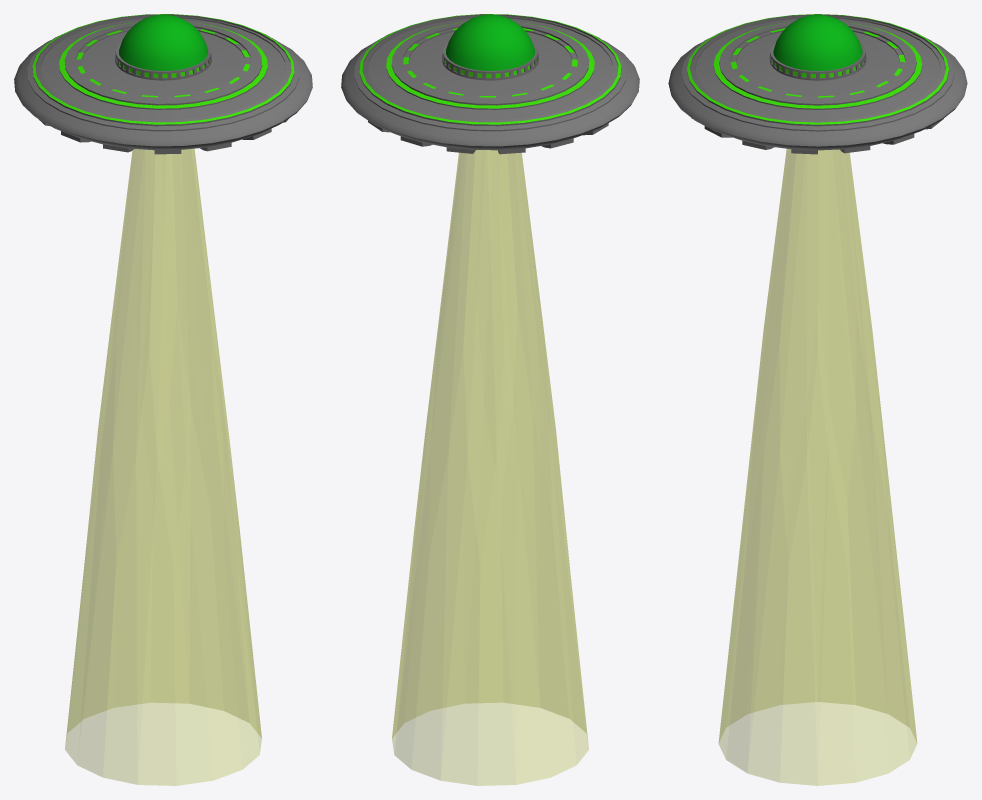
The model's file is UFO.glb.
The picture shows the model from 3 angles, left to right: view 1: azimuth 30°, elevation 25°; view 2: azimuth 150°, elevation 25°; view 3: azimuth 270°, elevation 25°; orthographic projection.
Visible parts, largest first — view 1: light_beam, ufo; view 2: light_beam, ufo; view 3: light_beam, ufo.
Boxes of the visible parts, x1,y1,x2,y2 form: light_beam: (65,148,261,785); ufo: (14,14,312,154); light_beam: (392,150,588,785); ufo: (341,14,639,154); light_beam: (718,149,917,785); ufo: (668,14,967,154).
Size of the model in its own units: 9.83 by 26.29 by 9.83.
